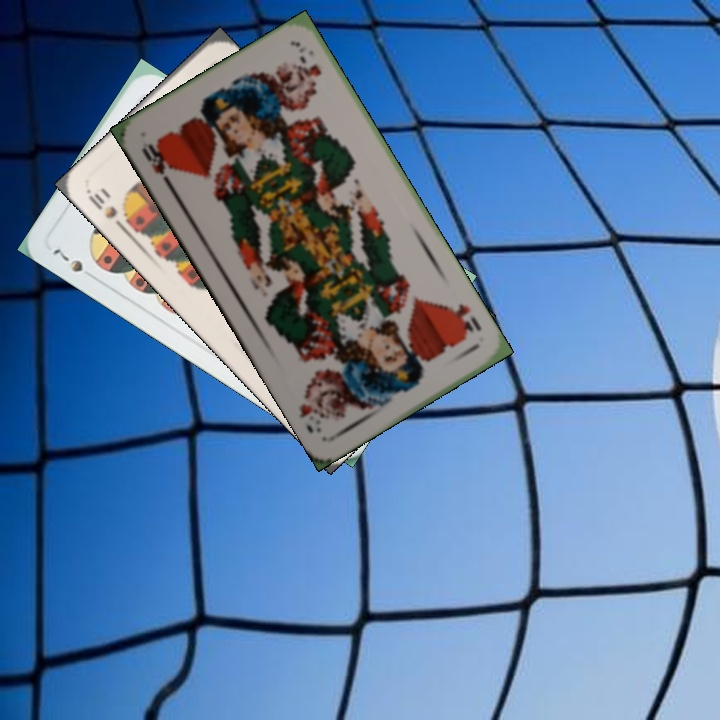HO: (137, 140, 175, 191), (443, 299, 484, 338)
S10: (83, 185, 129, 234)
S7: (47, 244, 86, 275)
